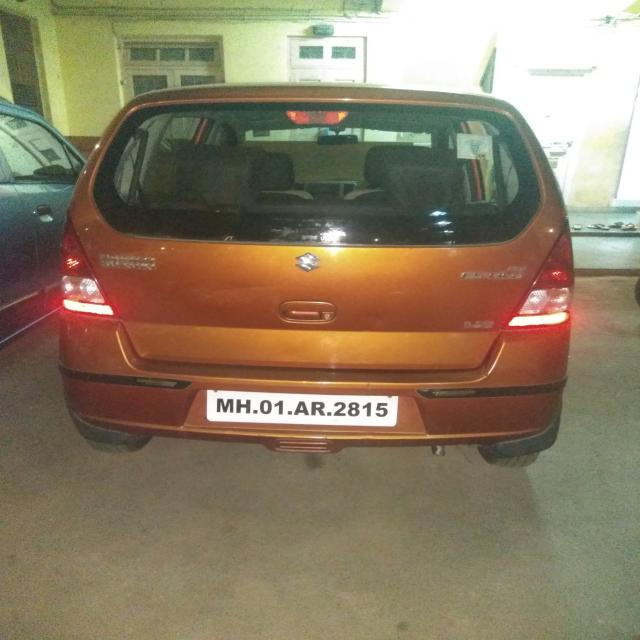Number-Plate: (205, 390, 398, 424), (294, 34, 364, 78)
